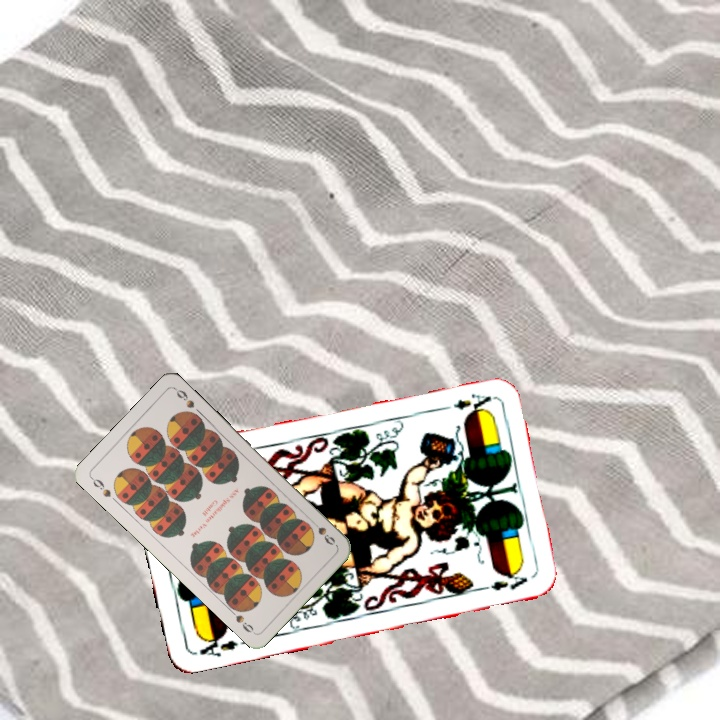EA: (195, 630, 241, 659), (449, 389, 494, 417)
S9: (306, 516, 338, 548), (86, 473, 114, 500)
